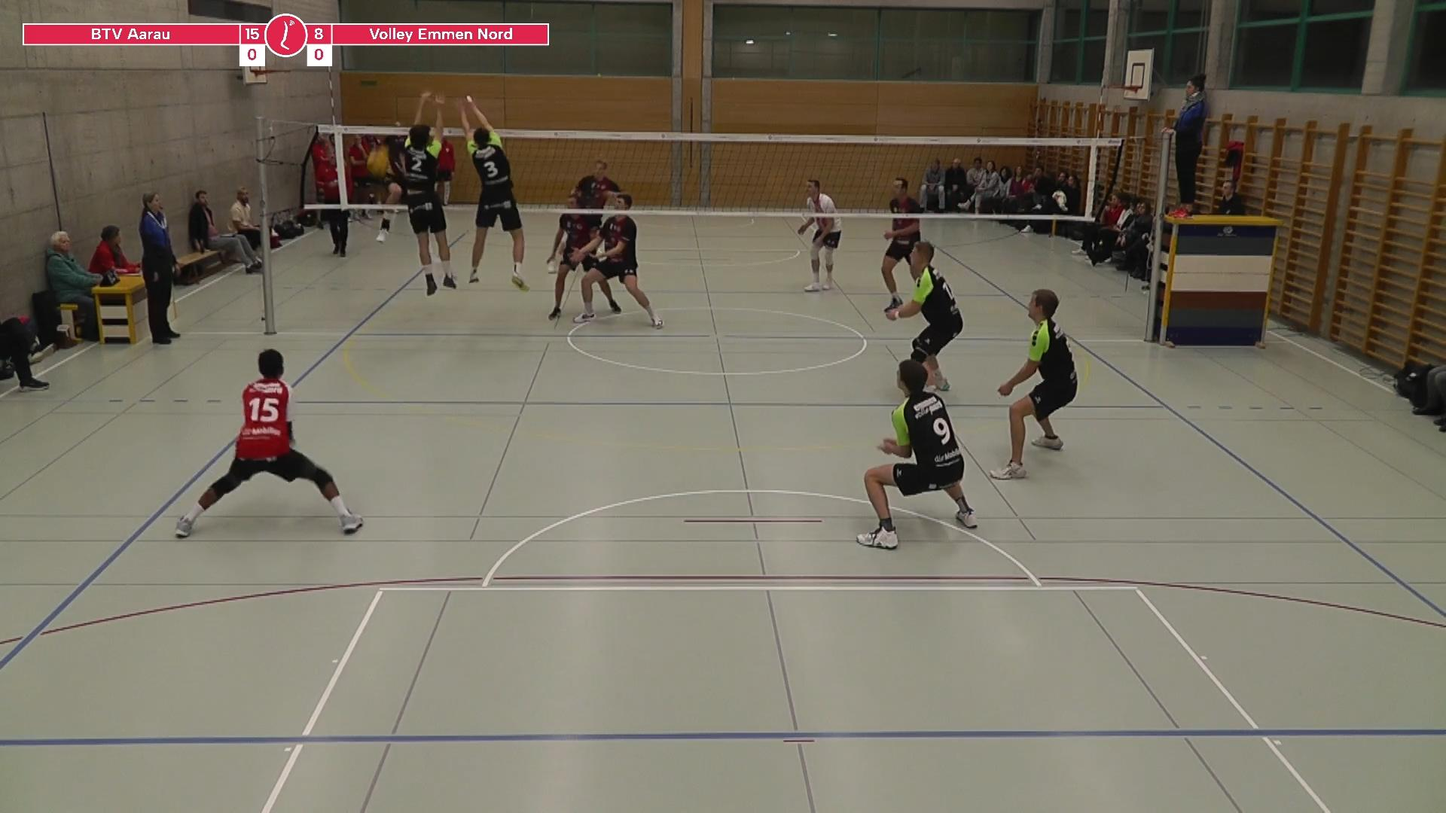attacco: (372, 109, 406, 245)
muro: (453, 89, 533, 290), (399, 86, 468, 289)
